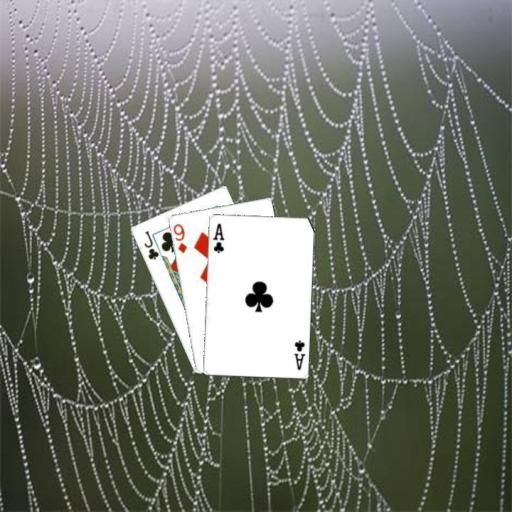card-corner: (140, 228, 160, 261), (170, 220, 188, 254), (209, 220, 225, 254), (291, 336, 306, 372)
